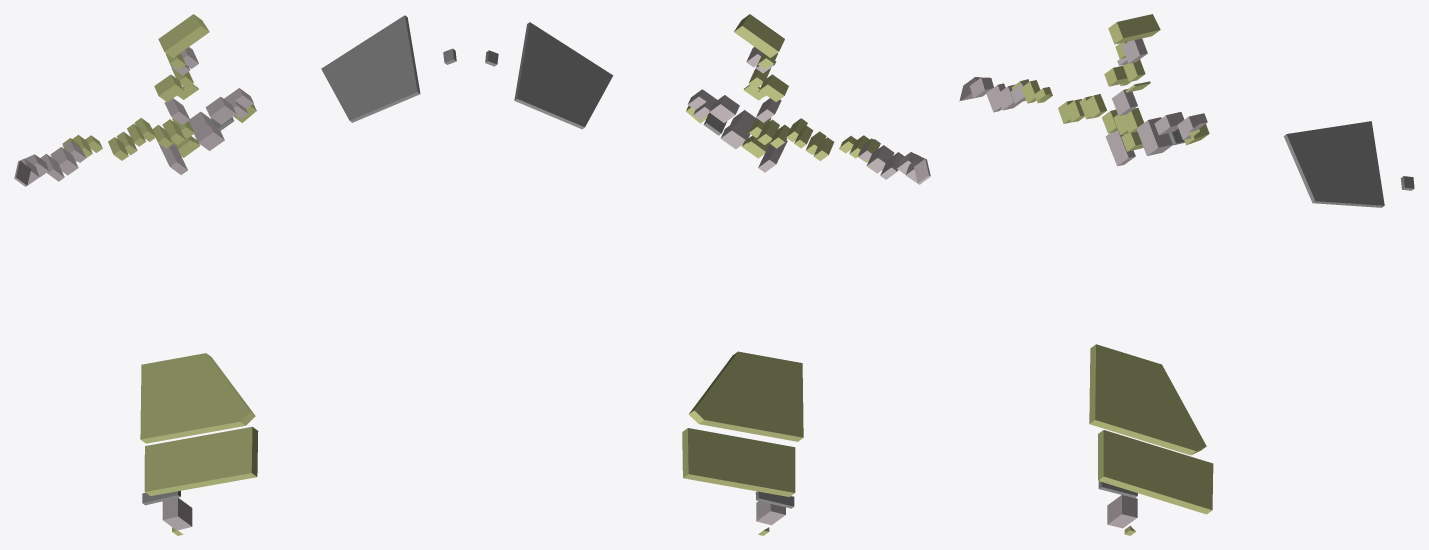
3 views of the same model, side by side, from view 1: azimuth 30°, elevation 25°; view 2: azimuth 150°, elevation 25°; view 3: azimuth 330°, elevation 25° (orthographic). The views are drawn at different scales.
Parts seen in each view (by area): view 1: 0_2_2_0_0_0; view 2: 0_2_2_0_0_0; view 3: 0_2_2_0_0_0.
Boxes of the visible parts, x1,y1,x2,y2 form: 0_2_2_0_0_0: [14, 14, 456, 535]; 0_2_2_0_0_0: [485, 14, 930, 535]; 0_2_2_0_0_0: [959, 14, 1414, 535].
Bounding box in the file's own units: 266 × 298 × 17.3.
